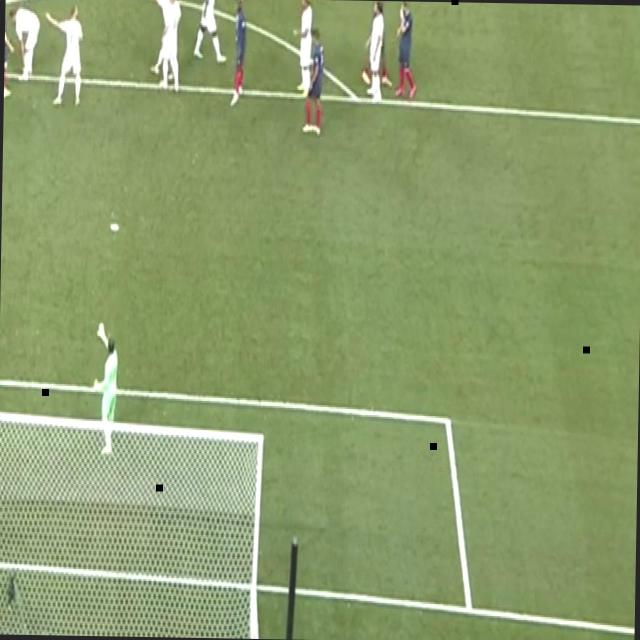player-white: (42, 0, 86, 109), (89, 318, 121, 460), (148, 0, 183, 98), (137, 0, 173, 91), (362, 1, 396, 88), (7, 2, 41, 86), (394, 1, 421, 103), (302, 26, 326, 137), (192, 0, 230, 65), (290, 0, 314, 101), (364, 1, 386, 106), (230, 0, 250, 107), (4, 0, 18, 103)
